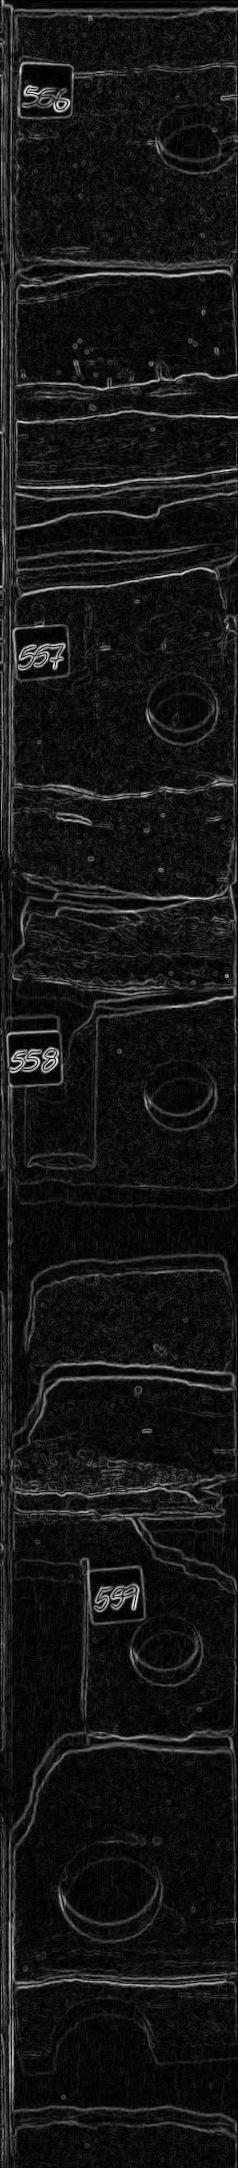hplug: (136, 665, 228, 749), (136, 1052, 226, 1138), (147, 94, 238, 178), (126, 1609, 208, 1690)
scal: (51, 1831, 167, 1943)
vplug: (11, 1550, 95, 1755), (30, 592, 113, 794), (24, 1009, 102, 1174), (39, 66, 104, 259)
